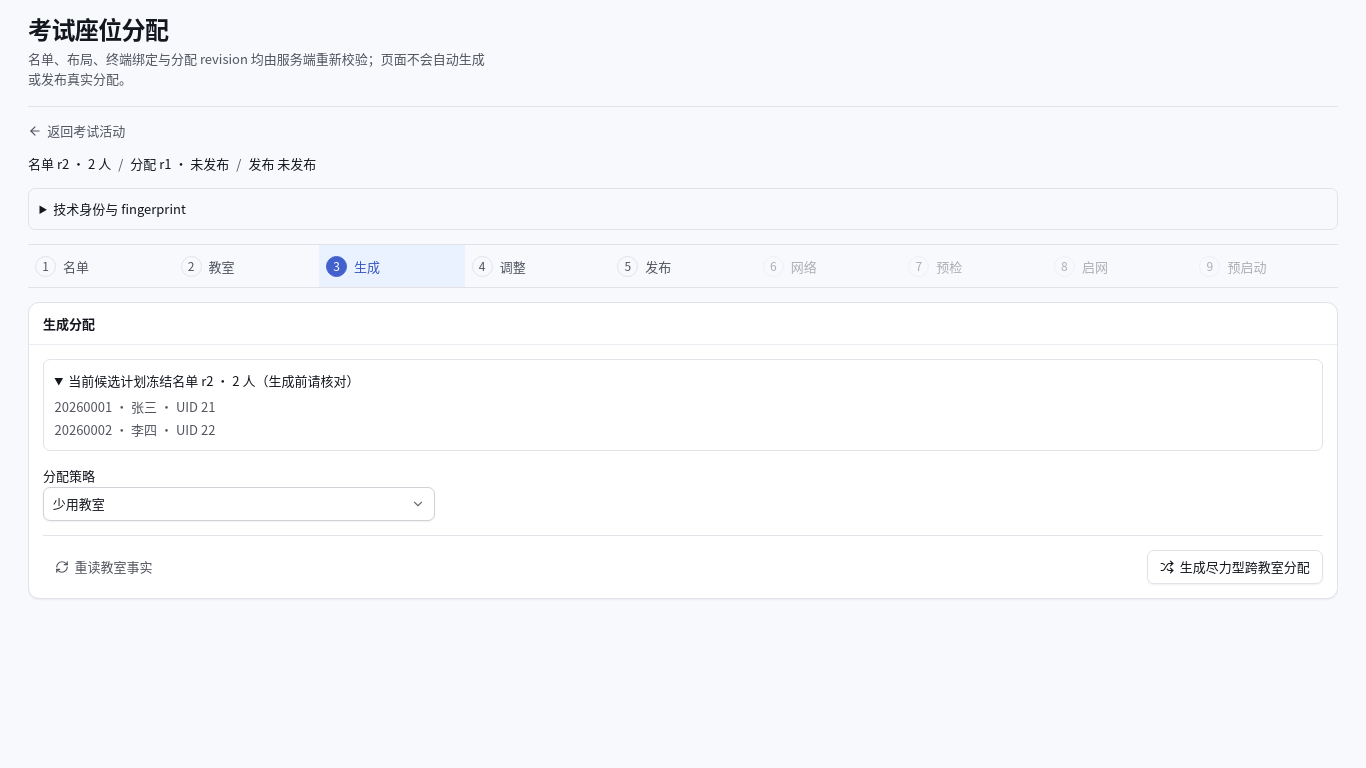
Test case: p2.5 exam seat assignment workspace › keeps every v1 mutation closed and offers only v2 generation when a v2 plan is newer than the displayed v1 assignment
The image size is (1366, 768).
Expected: the button "生成尽力型跨教室分配" is enabled, [1147,550,1323,584]
Click the button with aria-label "发布分配" at (683, 266), box [610,245,756,287]
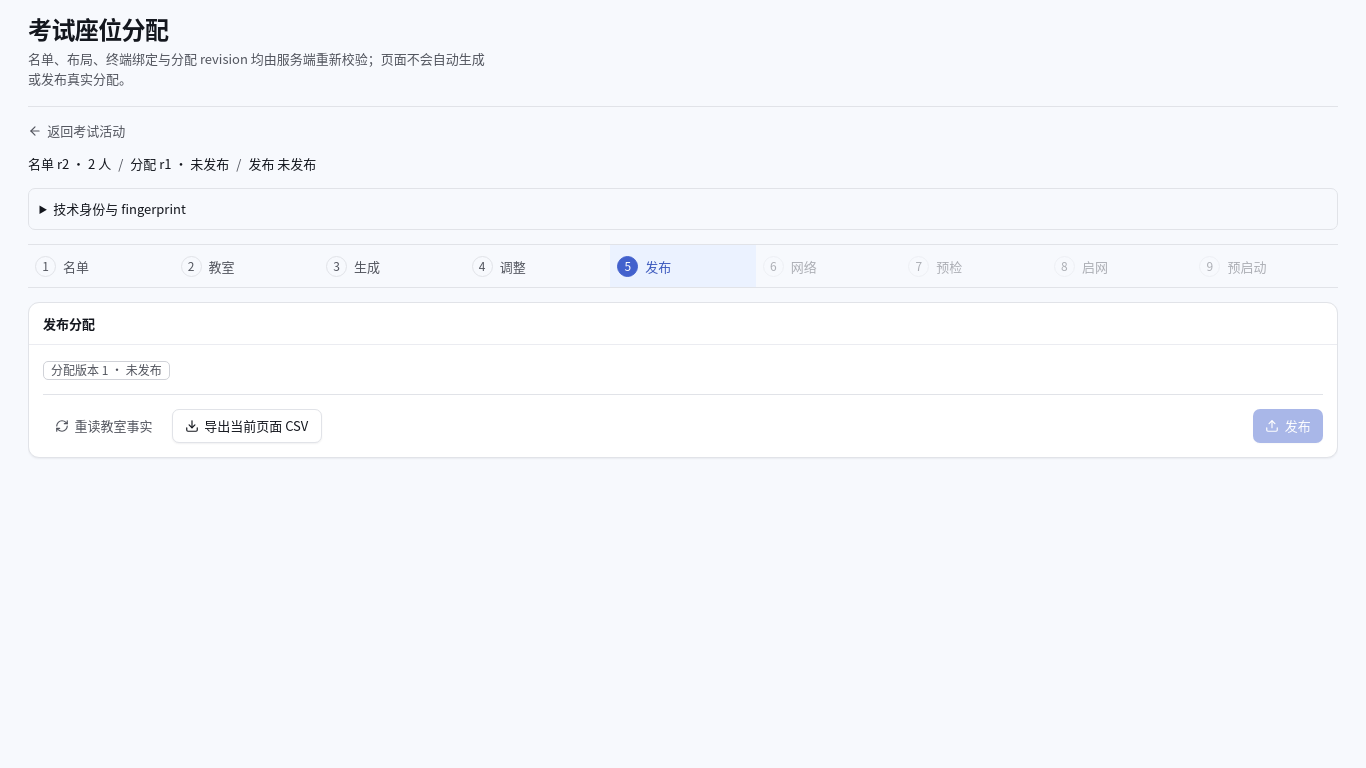
Expected: the button "发布" is disabled, [1253,409,1323,443]
Click the button with aria-label "生成分配" at (392, 266), box [319,245,465,287]
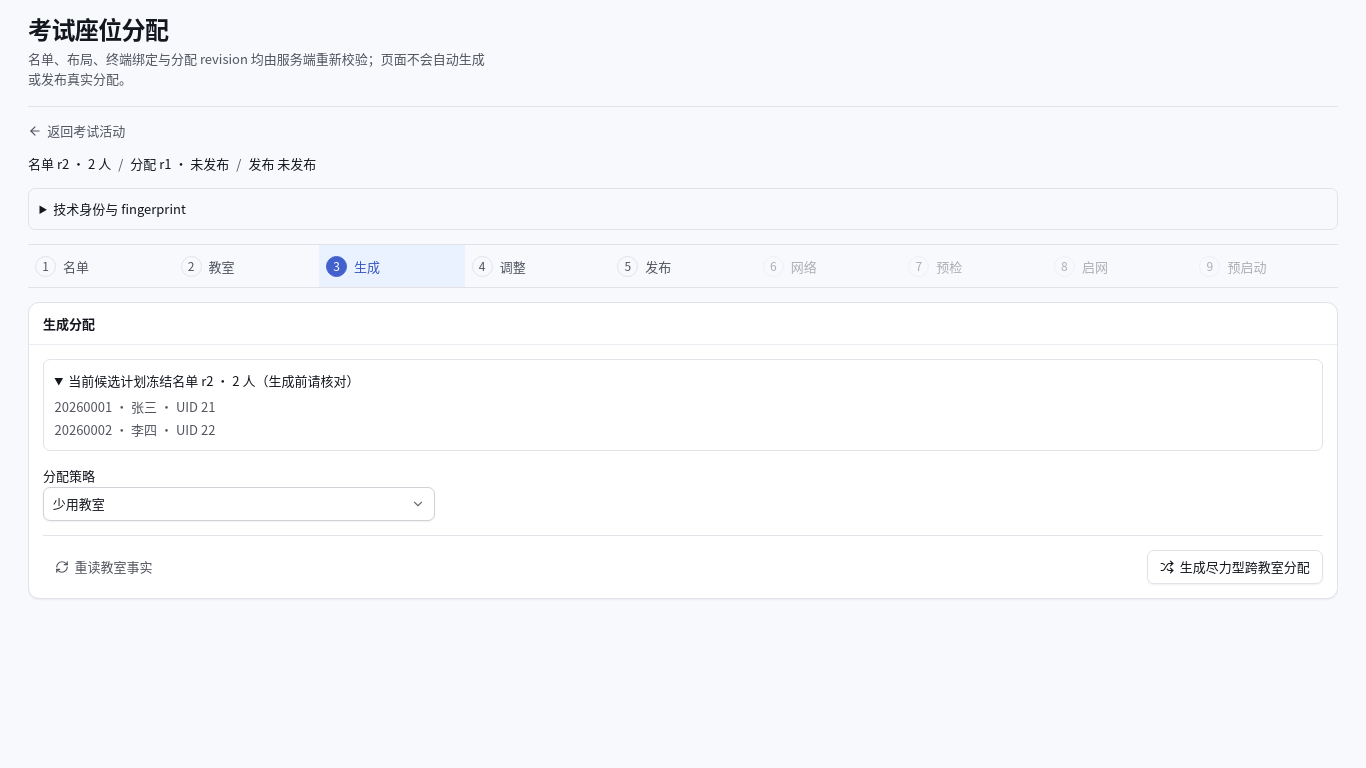
Click the dropdown named "跨教室分配策略" at (79, 504), box [43,487,435,521]
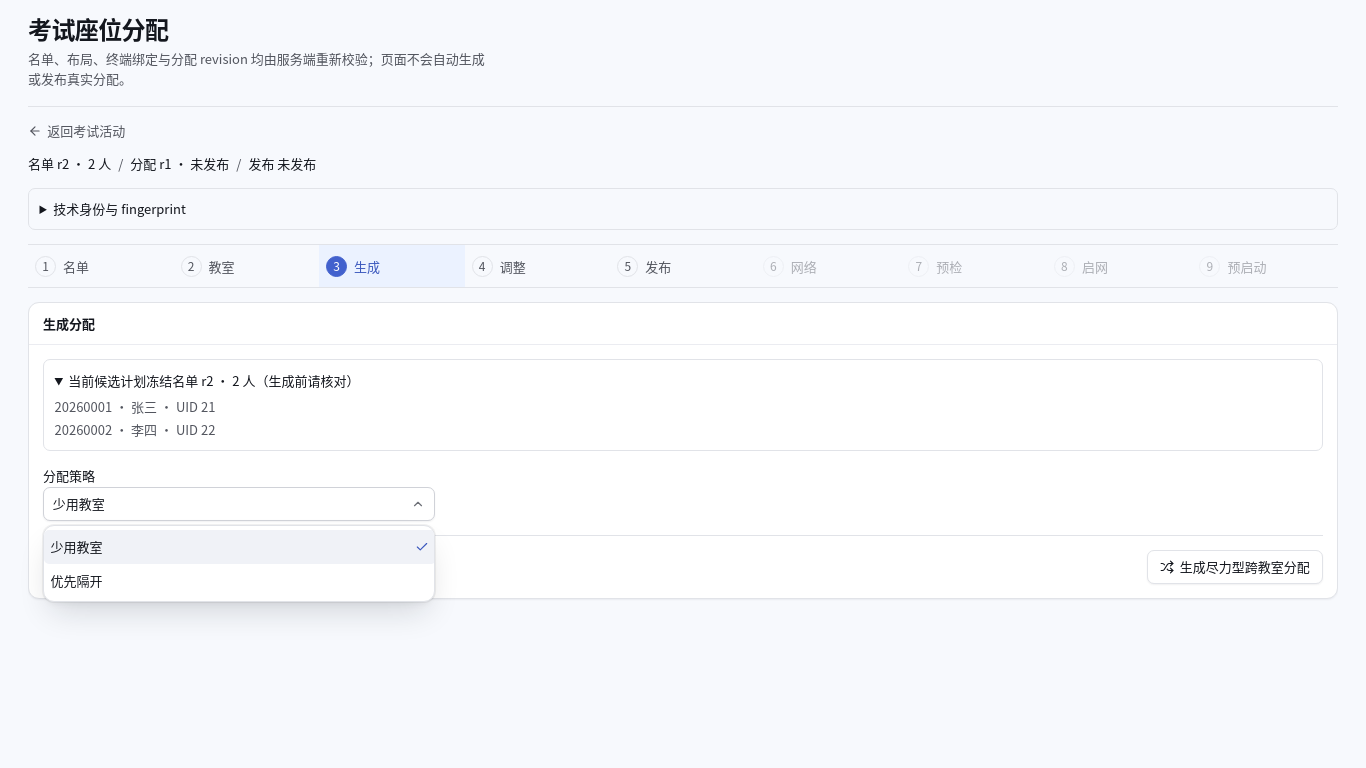
Click the option "优先隔开" at (76, 580), box [50,571,102,590]
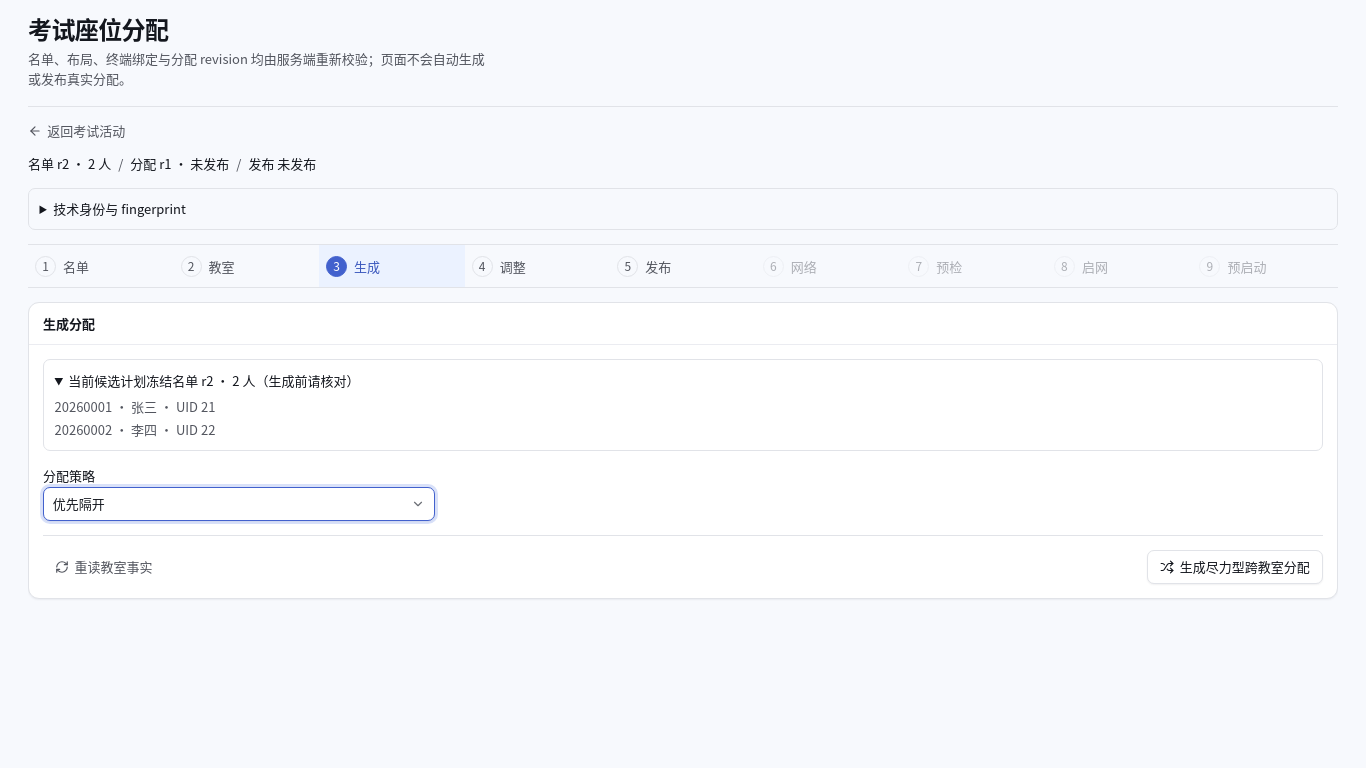
Click the button "生成尽力型跨教室分配" at (1235, 567), box [1147,550,1323,584]
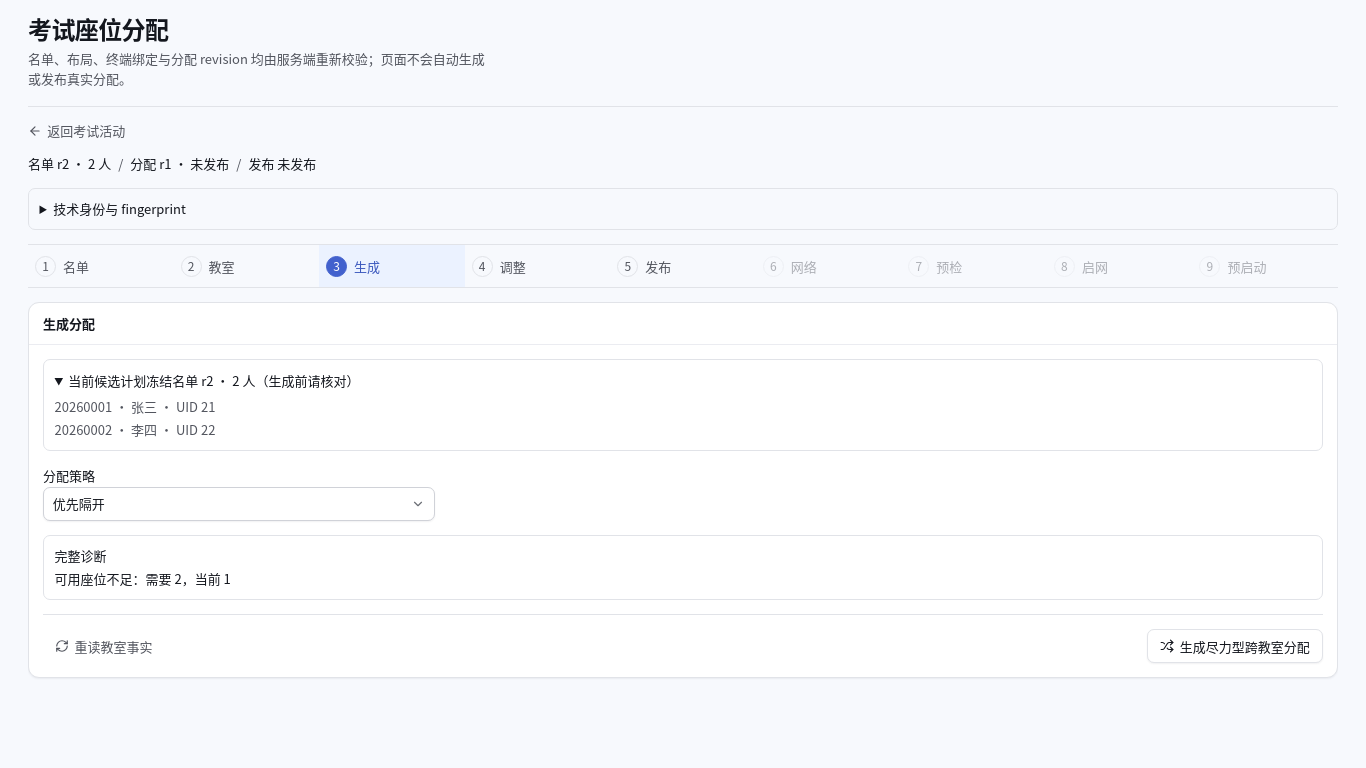
Expected: the text "可用座位不足：需要 2，当前 1" is shown, [54,569,231,588]
